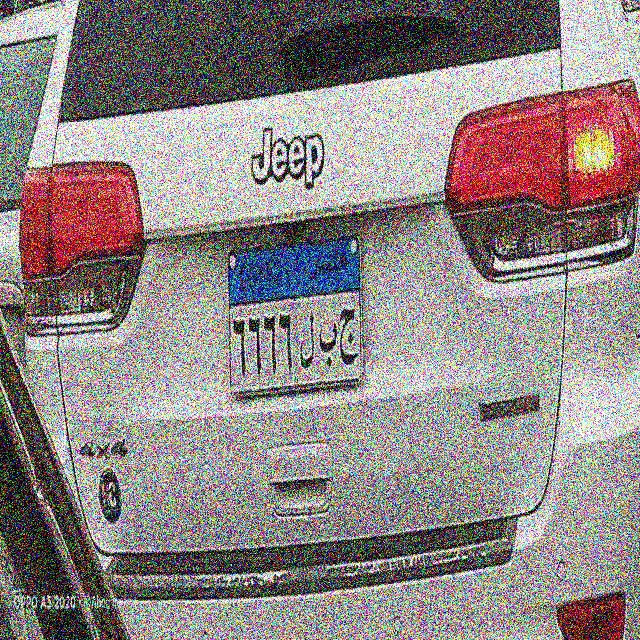License Plate: (224, 230, 367, 402)
